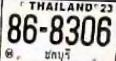0: (80, 15, 94, 45)
3: (65, 14, 79, 44)
6: (96, 15, 111, 46), (22, 13, 36, 43)
8: (49, 14, 63, 44), (7, 12, 20, 43)
CBI: (43, 47, 71, 61)
